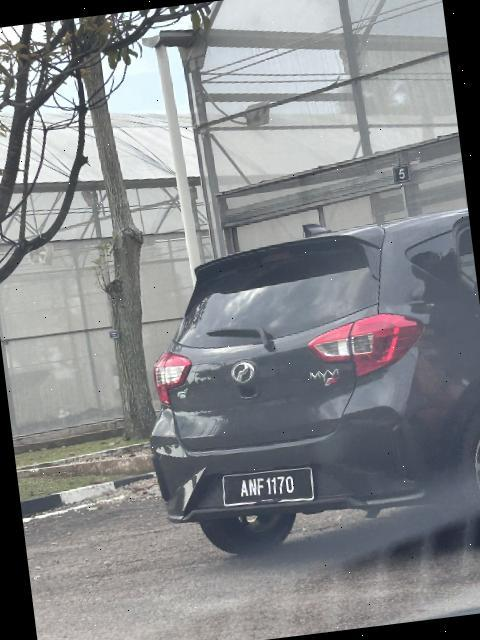ANF1170: (221, 465, 319, 516)
License_Plate: (221, 465, 319, 516)
car: (121, 218, 480, 570)
